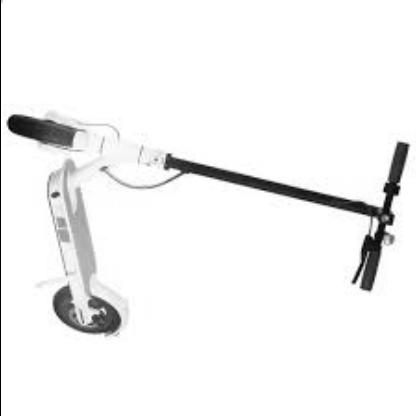bike: (7, 112, 406, 338)
